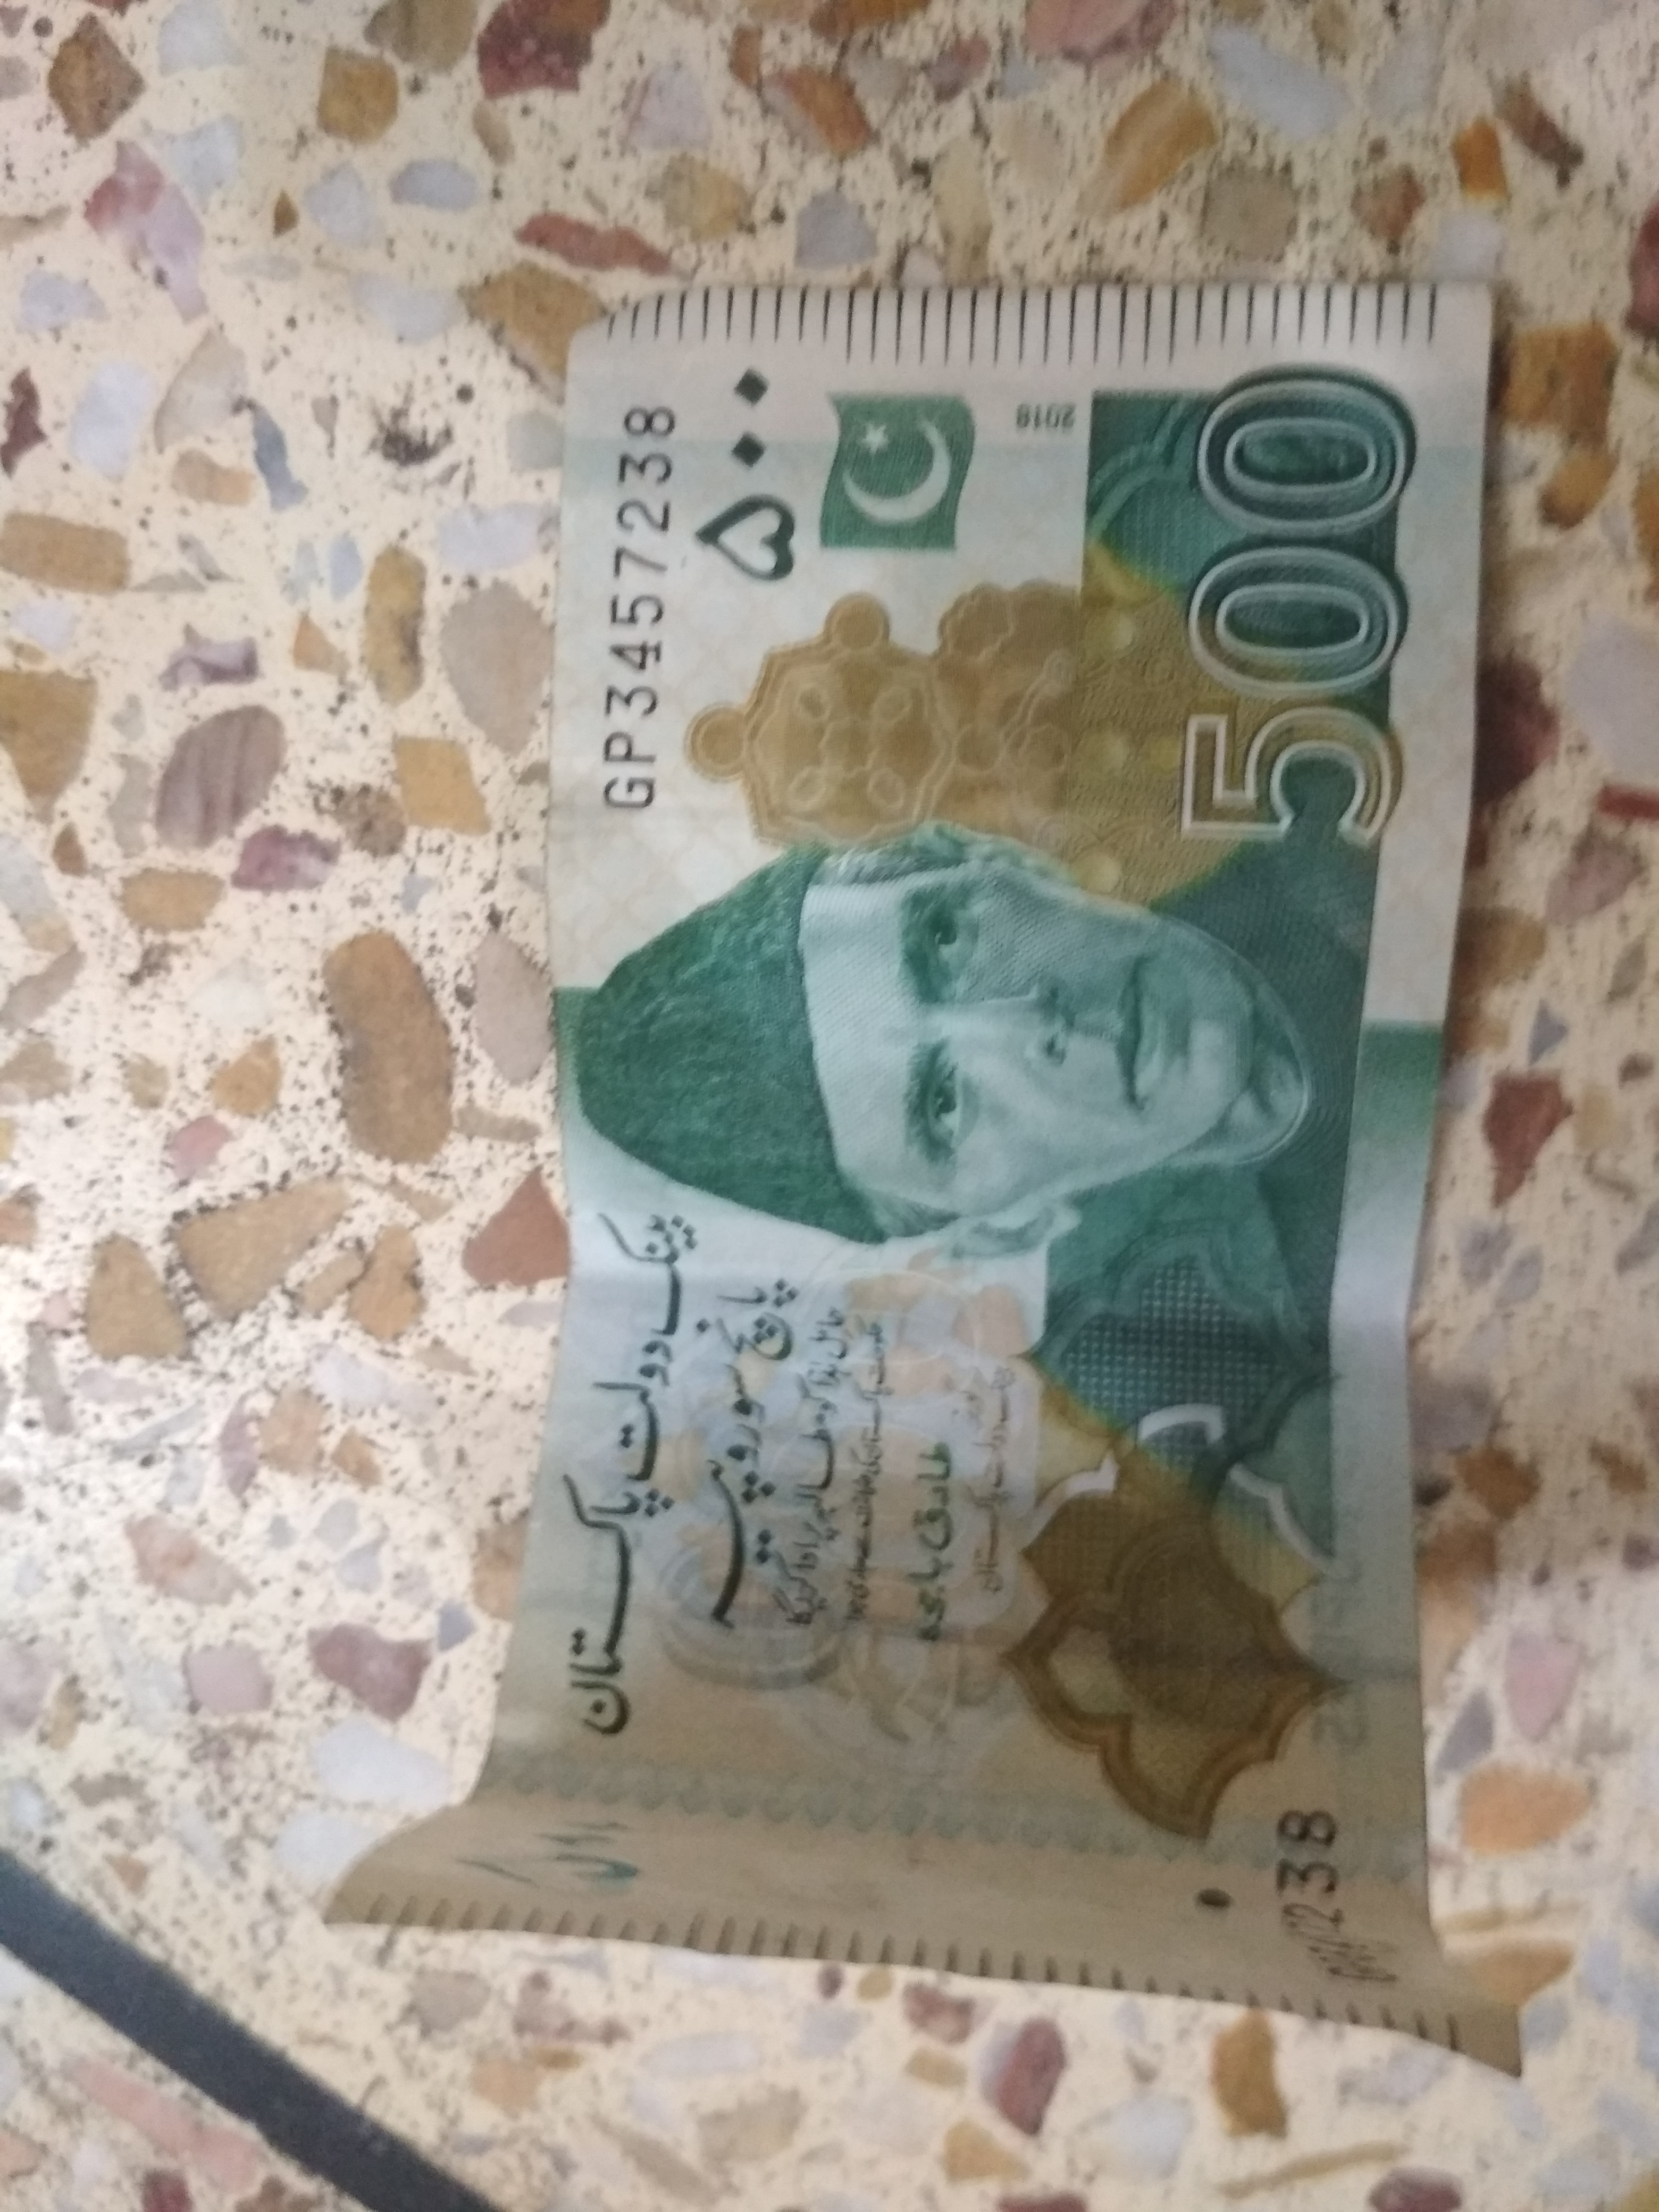500 rupee: (331, 230, 1621, 2113)
